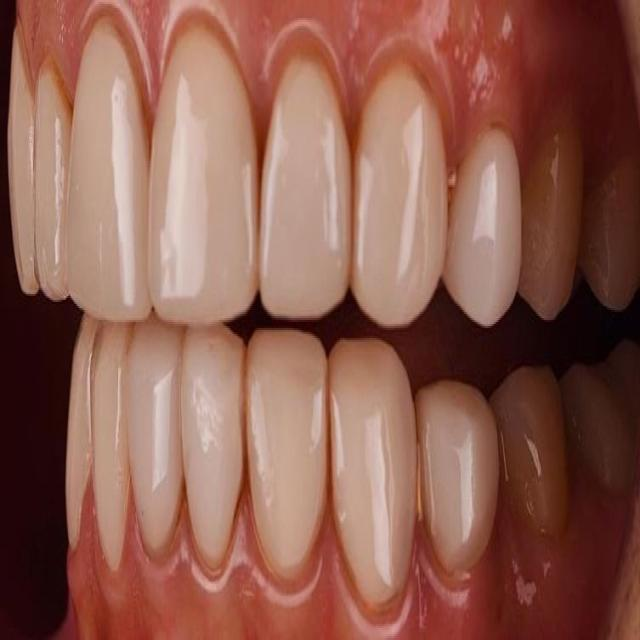1st Molar: (561, 346, 640, 493), (578, 163, 640, 314)
1st Premolar: (416, 382, 501, 578), (442, 131, 523, 330)
2nd Premolar: (490, 368, 569, 538), (518, 129, 584, 324)
Canine: (351, 68, 447, 328), (327, 337, 416, 608), (8, 18, 37, 293), (65, 318, 93, 549)
Central Incisor: (147, 28, 259, 326), (66, 24, 150, 322), (178, 330, 246, 576), (125, 318, 182, 562)
Lateral Incisor: (259, 58, 351, 320), (246, 329, 328, 584), (91, 324, 129, 572), (35, 55, 69, 302)
